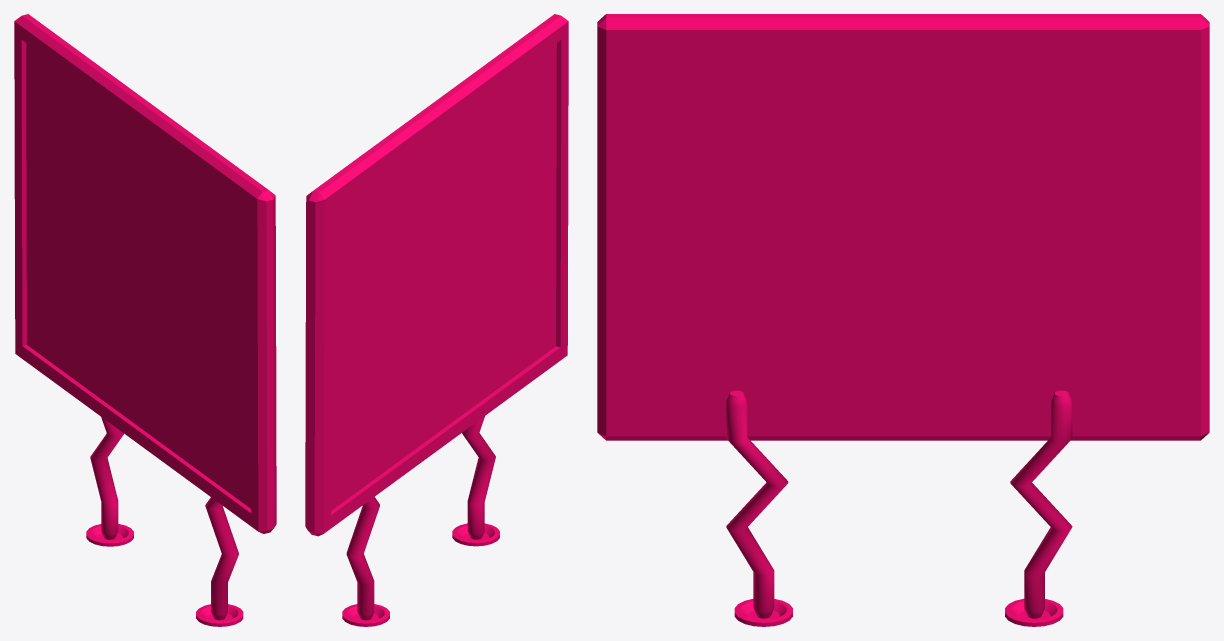
Rendered from billboard.FBX.
3 renders of one model, left to right at view 1: azimuth 30°, elevation 25°; view 2: azimuth 150°, elevation 25°; view 3: azimuth 270°, elevation 25°, orthographic. The views are drawn at different scales.
Visible parts, largest first — view 1: Box001; view 2: Box001; view 3: Box001.
Boxes of the visible parts, box(x1,y1,x2,y2) form: Box001: box(14, 14, 276, 626); Box001: box(305, 14, 568, 626); Box001: box(597, 14, 1209, 626).
Bounding box in the file's own units: 7.48 × 71.38 × 66.89.
